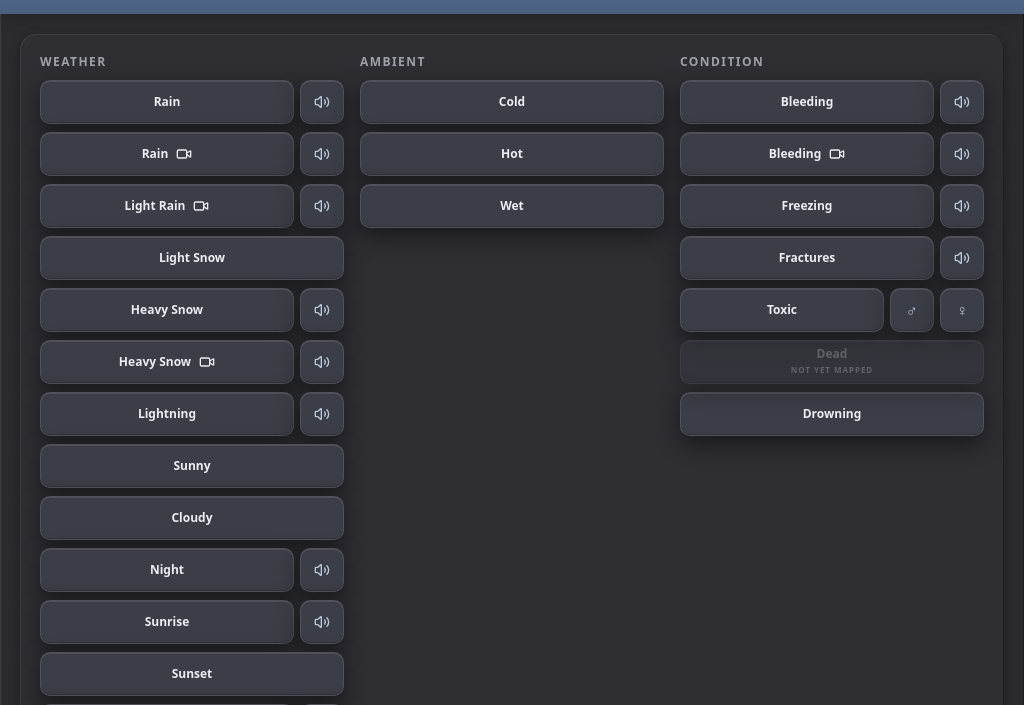
Test: ChatEffectsLayerPreview › adds the generated heavy-snow plate directly below the original Heavy Snow control
The width and height of the screenshot is (1024, 705).
Later steps or results of the test are not shown.
(page scrolled)
Click the button named "Enable chat heavy snow video audio" at (322, 362), box [300,340,344,384]
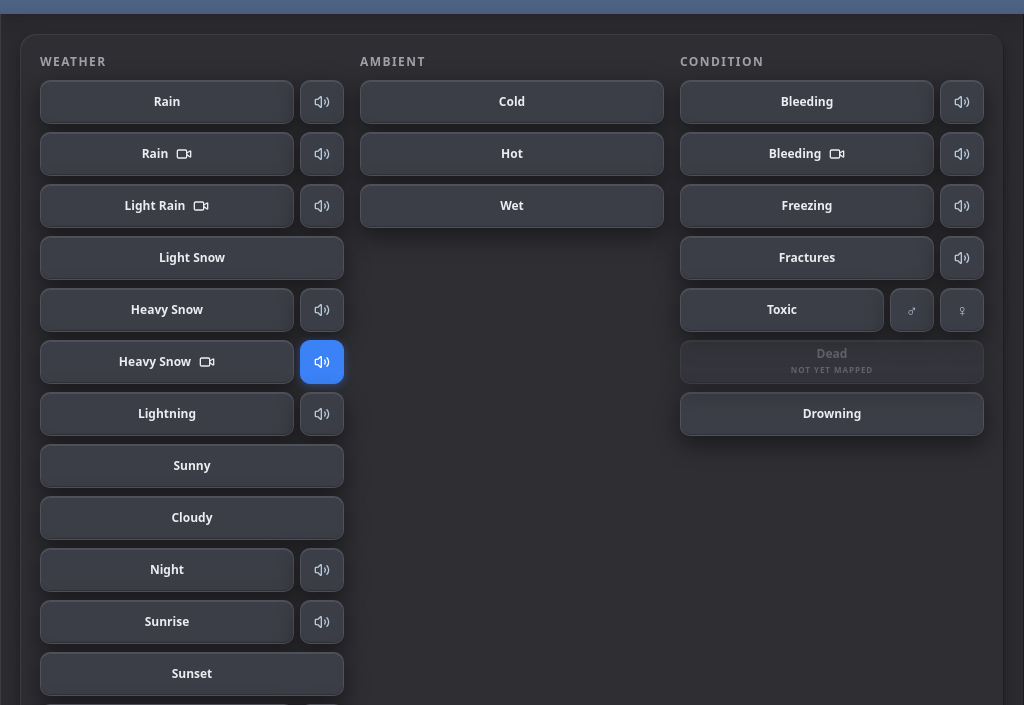
Now the button named "Disable chat heavy snow video audio" is pressed, box [300,340,344,384]
Click the 2nd button "Heavy Snow" at (167, 362), box [40,340,294,384]
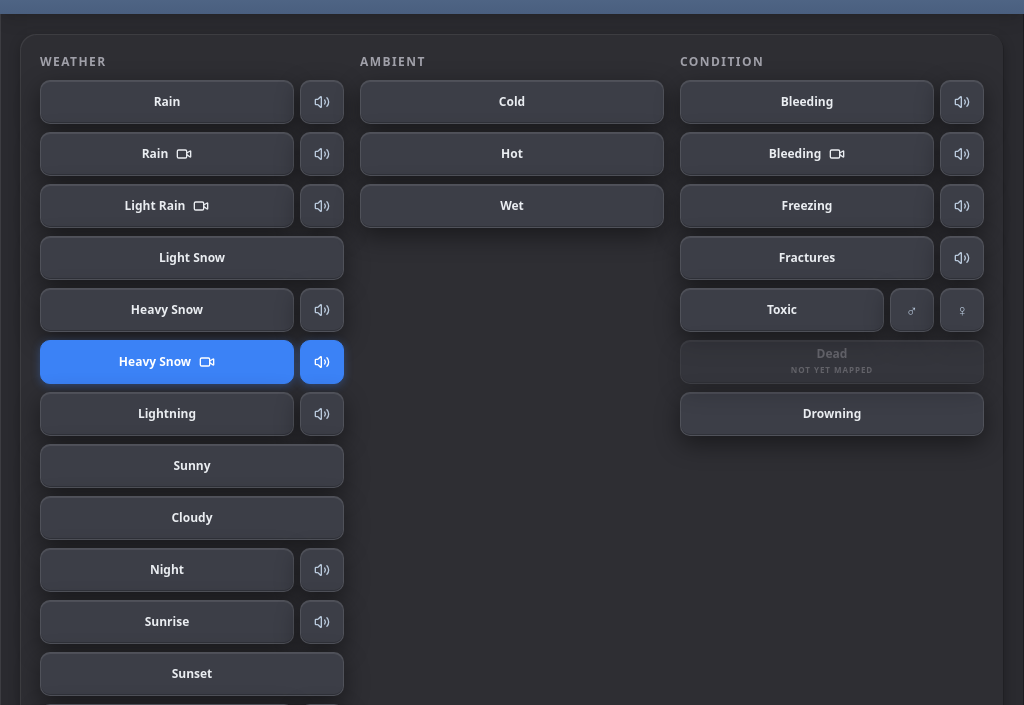
Now the 2nd button "Heavy Snow" is pressed, box [40,340,294,384]
